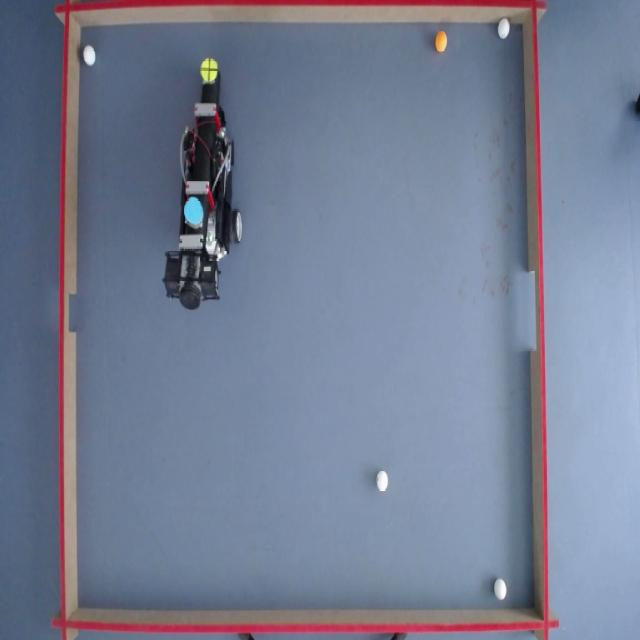orange: (435, 34, 449, 54)
robot: (168, 62, 246, 314)
robot-front: (200, 58, 219, 84)
robot-rear: (181, 194, 205, 227)
white: (495, 578, 509, 601), (498, 18, 512, 39), (83, 46, 96, 68), (376, 470, 388, 492)
